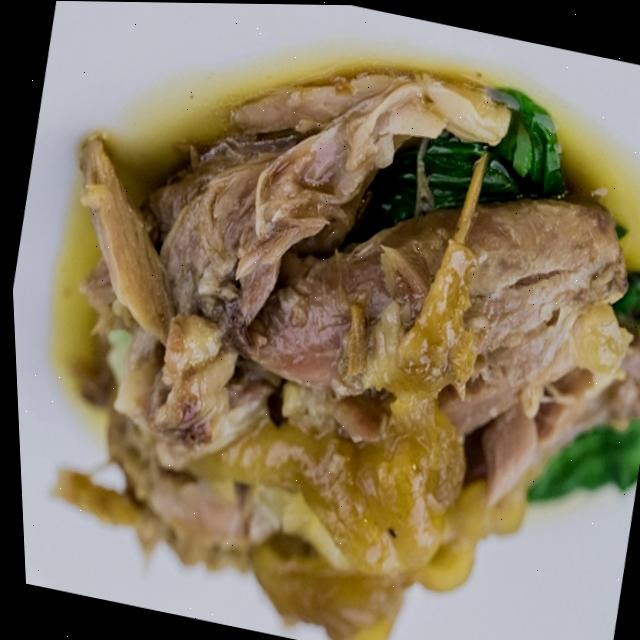猪肉菜式: (0, 8, 640, 640)
